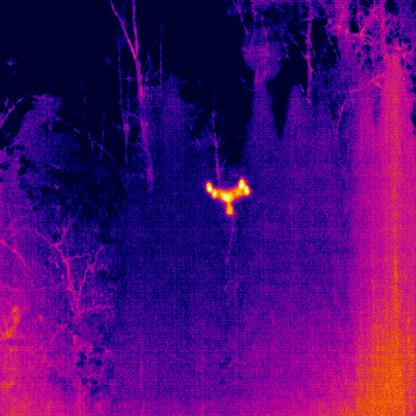drone: (205, 177, 250, 215)
